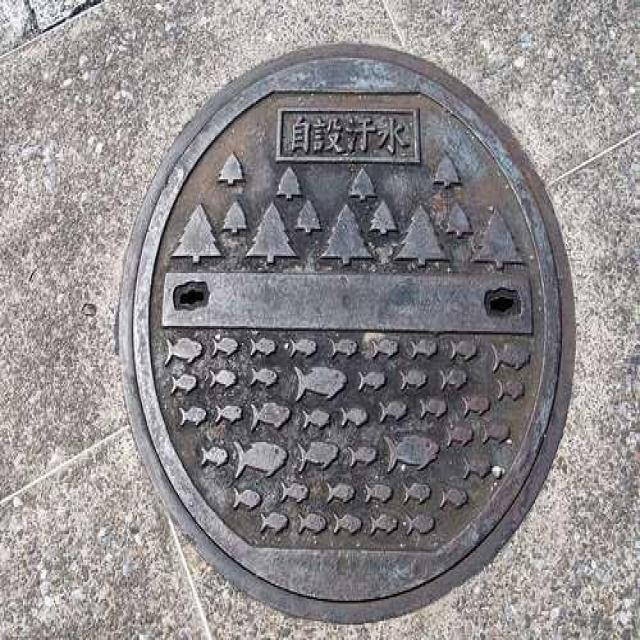manhole: (119, 43, 575, 621)
